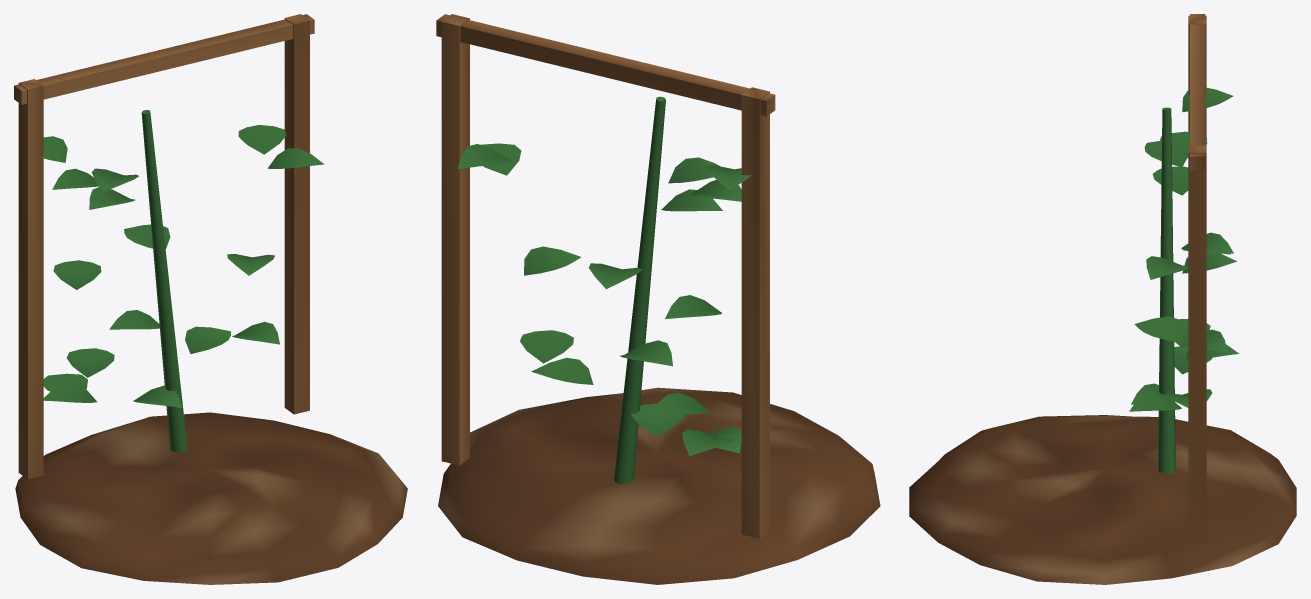
Rendered from plant-grape-4.gltf.
The picture shows the model from 3 angles, left to right: view 1: azimuth 30°, elevation 25°; view 2: azimuth 150°, elevation 25°; view 3: azimuth 270°, elevation 25°; orthographic projection. The views are drawn at different scales.
Size of the model in its own units: 1.28 by 1.5 by 1.26.
